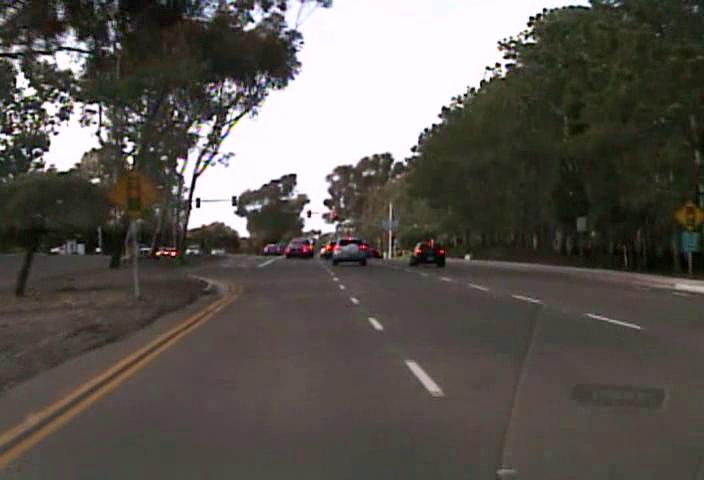signalAhead: (105, 165, 164, 221)
